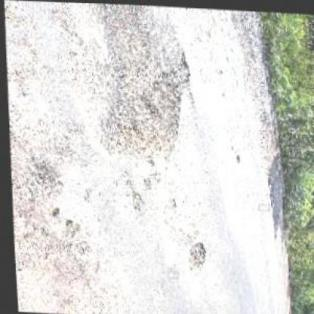Hueco: (81, 43, 195, 163), (180, 238, 208, 271), (62, 216, 78, 238), (128, 190, 141, 212), (46, 206, 57, 218), (230, 151, 240, 160)
